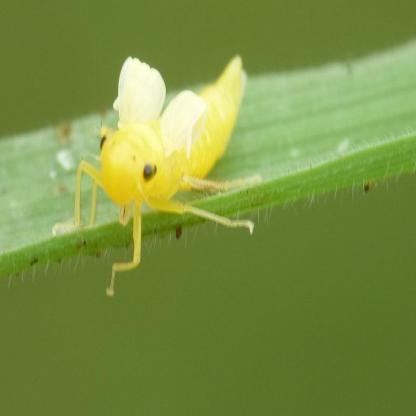Green-Leafhopper: (62, 50, 250, 288)
